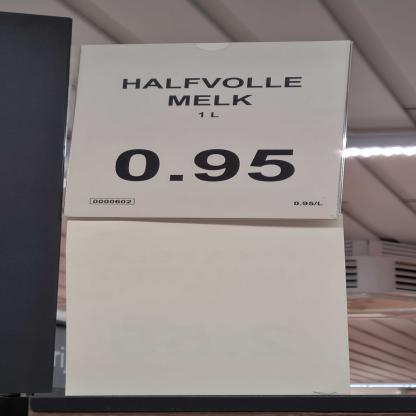prtg: (58, 40, 354, 220)
